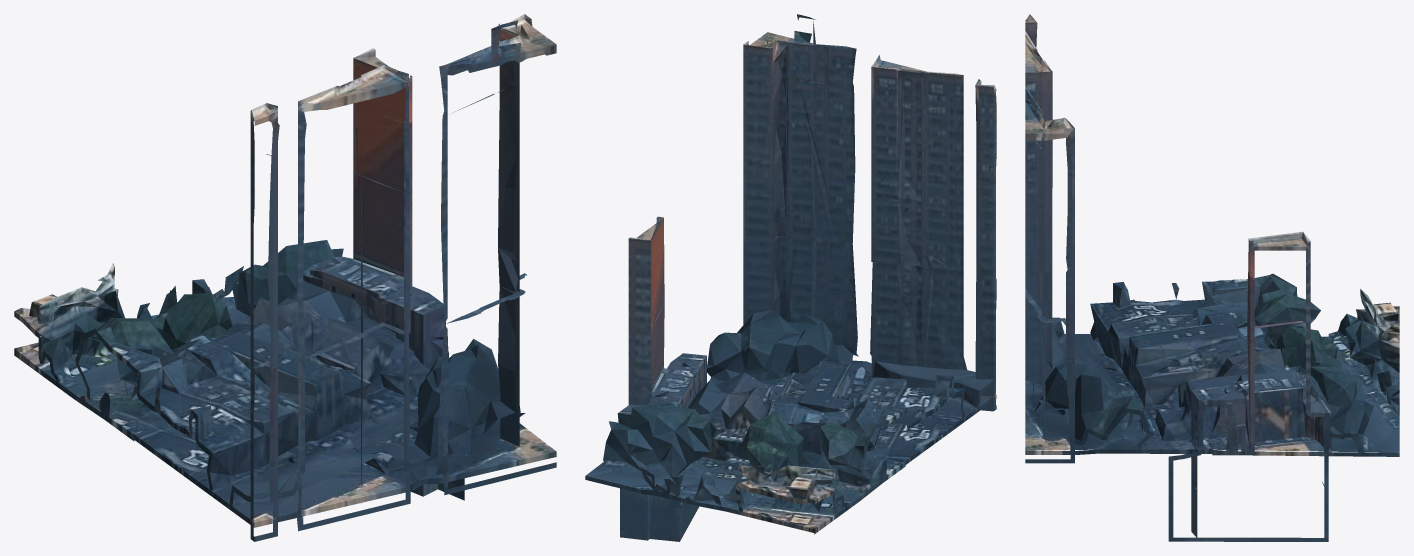
Rendered from chunk_-6_-3.glb.
3 renders of one model, left to right at view 1: azimuth 30°, elevation 25°; view 2: azimuth 150°, elevation 25°; view 3: azimuth 270°, elevation 25°, orthographic. The views are drawn at different scales.
Parts seen in each view (by area): view 1: hero-chunk; view 2: hero-chunk; view 3: hero-chunk.
Part boxes in pixels (left/top/right/bottom): hero-chunk: left=14, top=14, right=556, bottom=541; hero-chunk: left=585, top=14, right=996, bottom=541; hero-chunk: left=1025, top=14, right=1399, bottom=541.
Size of the model in its own units: 55.73 by 97.98 by 76.32.
Materials: 2 (2 with a texture image).
